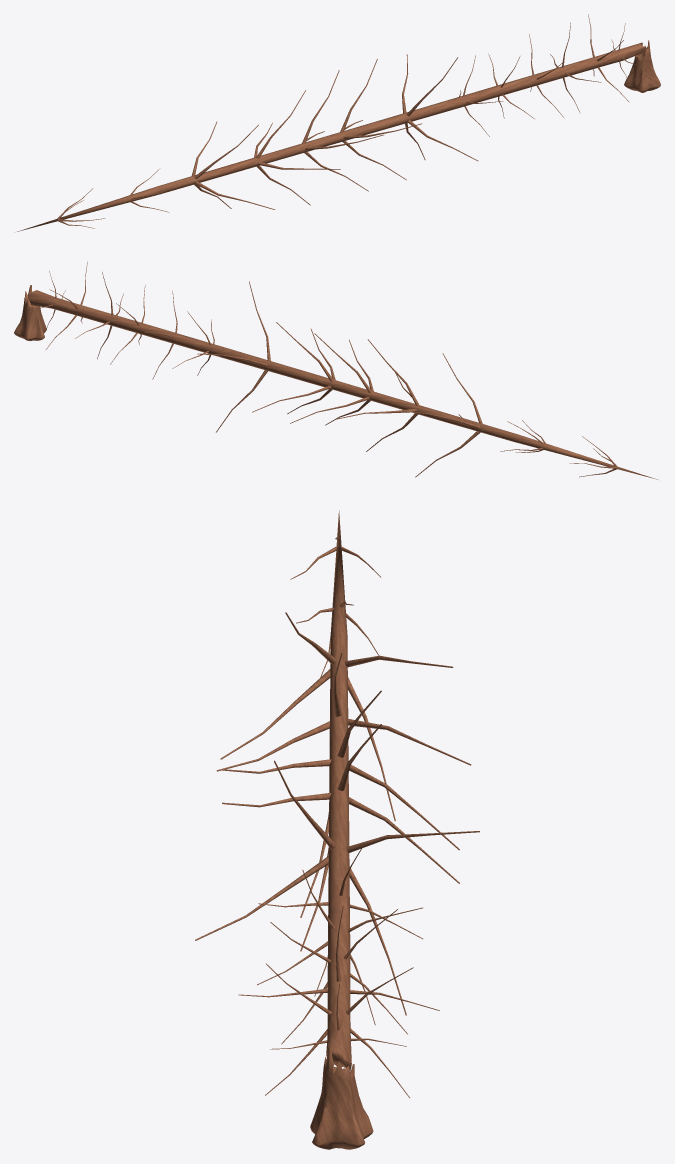
Rendered from SM_Broken_Tree_01.glb.
3 views of the same model, one above another, from view 1: azimuth 30°, elevation 25°; view 2: azimuth 150°, elevation 25°; view 3: azimuth 270°, elevation 25° (orthographic). The views are drawn at different scales.
Parts seen in each view (by area): view 1: SM_Broken_Tree_01; view 2: SM_Broken_Tree_01; view 3: SM_Broken_Tree_01.
Part boxes in pixels (left/top/right/bottom): SM_Broken_Tree_01: left=17, top=14, right=660, bottom=231; SM_Broken_Tree_01: left=14, top=261, right=658, bottom=479; SM_Broken_Tree_01: left=195, top=510, right=479, bottom=1149.
Bounding box in the file's own units: 7.8 × 1.48 × 1.5.
Materials: 1 (1 with a texture image).
